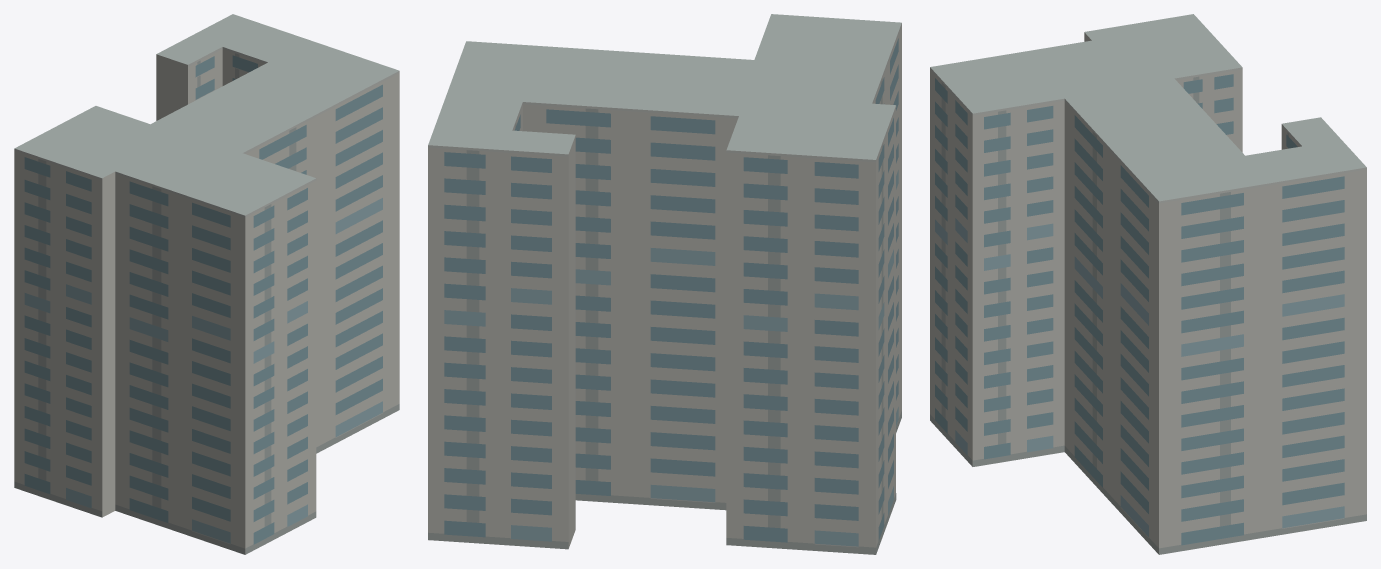
The model's file is residential-eb8bc9de-d741-479c-b865-836fbbd6230c.glb.
The picture shows the model from 3 angles, left to right: view 1: azimuth 30°, elevation 25°; view 2: azimuth 150°, elevation 25°; view 3: azimuth 270°, elevation 25°; orthographic projection. The views are drawn at different scales.
Visible parts, largest first — view 1: residential-eb8bc9de-d741-479c-b865-836fbbd6230c.tmp; view 2: residential-eb8bc9de-d741-479c-b865-836fbbd6230c.tmp; view 3: residential-eb8bc9de-d741-479c-b865-836fbbd6230c.tmp.
Boxes of the visible parts, x1=… form: residential-eb8bc9de-d741-479c-b865-836fbbd6230c.tmp: x1=14, y1=14, x2=399, y2=554; residential-eb8bc9de-d741-479c-b865-836fbbd6230c.tmp: x1=428, y1=14, x2=901, y2=554; residential-eb8bc9de-d741-479c-b865-836fbbd6230c.tmp: x1=930, y1=14, x2=1366, y2=554.
Size of the model in its own units: 45.5 by 40 by 44.82.
